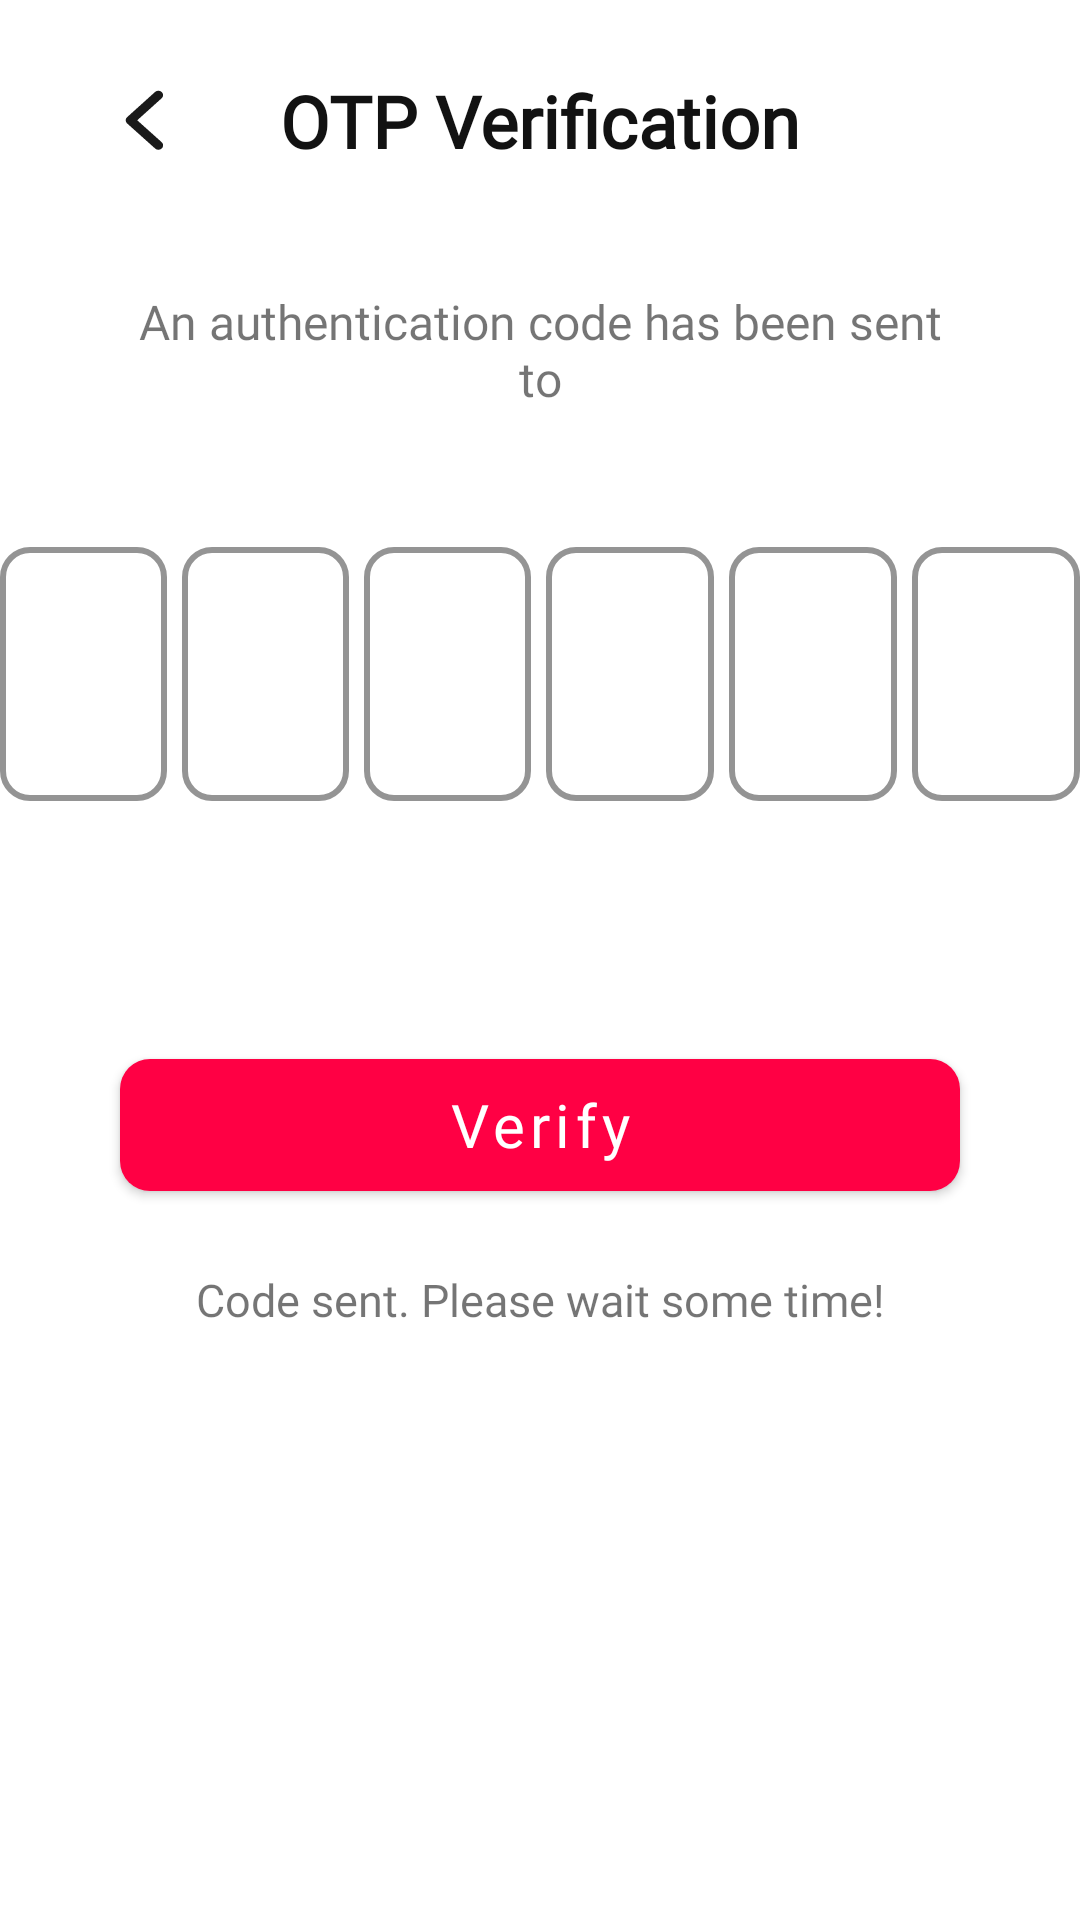

Screen size 1080 × 1920. Icon name, then its box in pixels as (x1, y1, x2, y2):
back: (125, 90, 163, 150)
